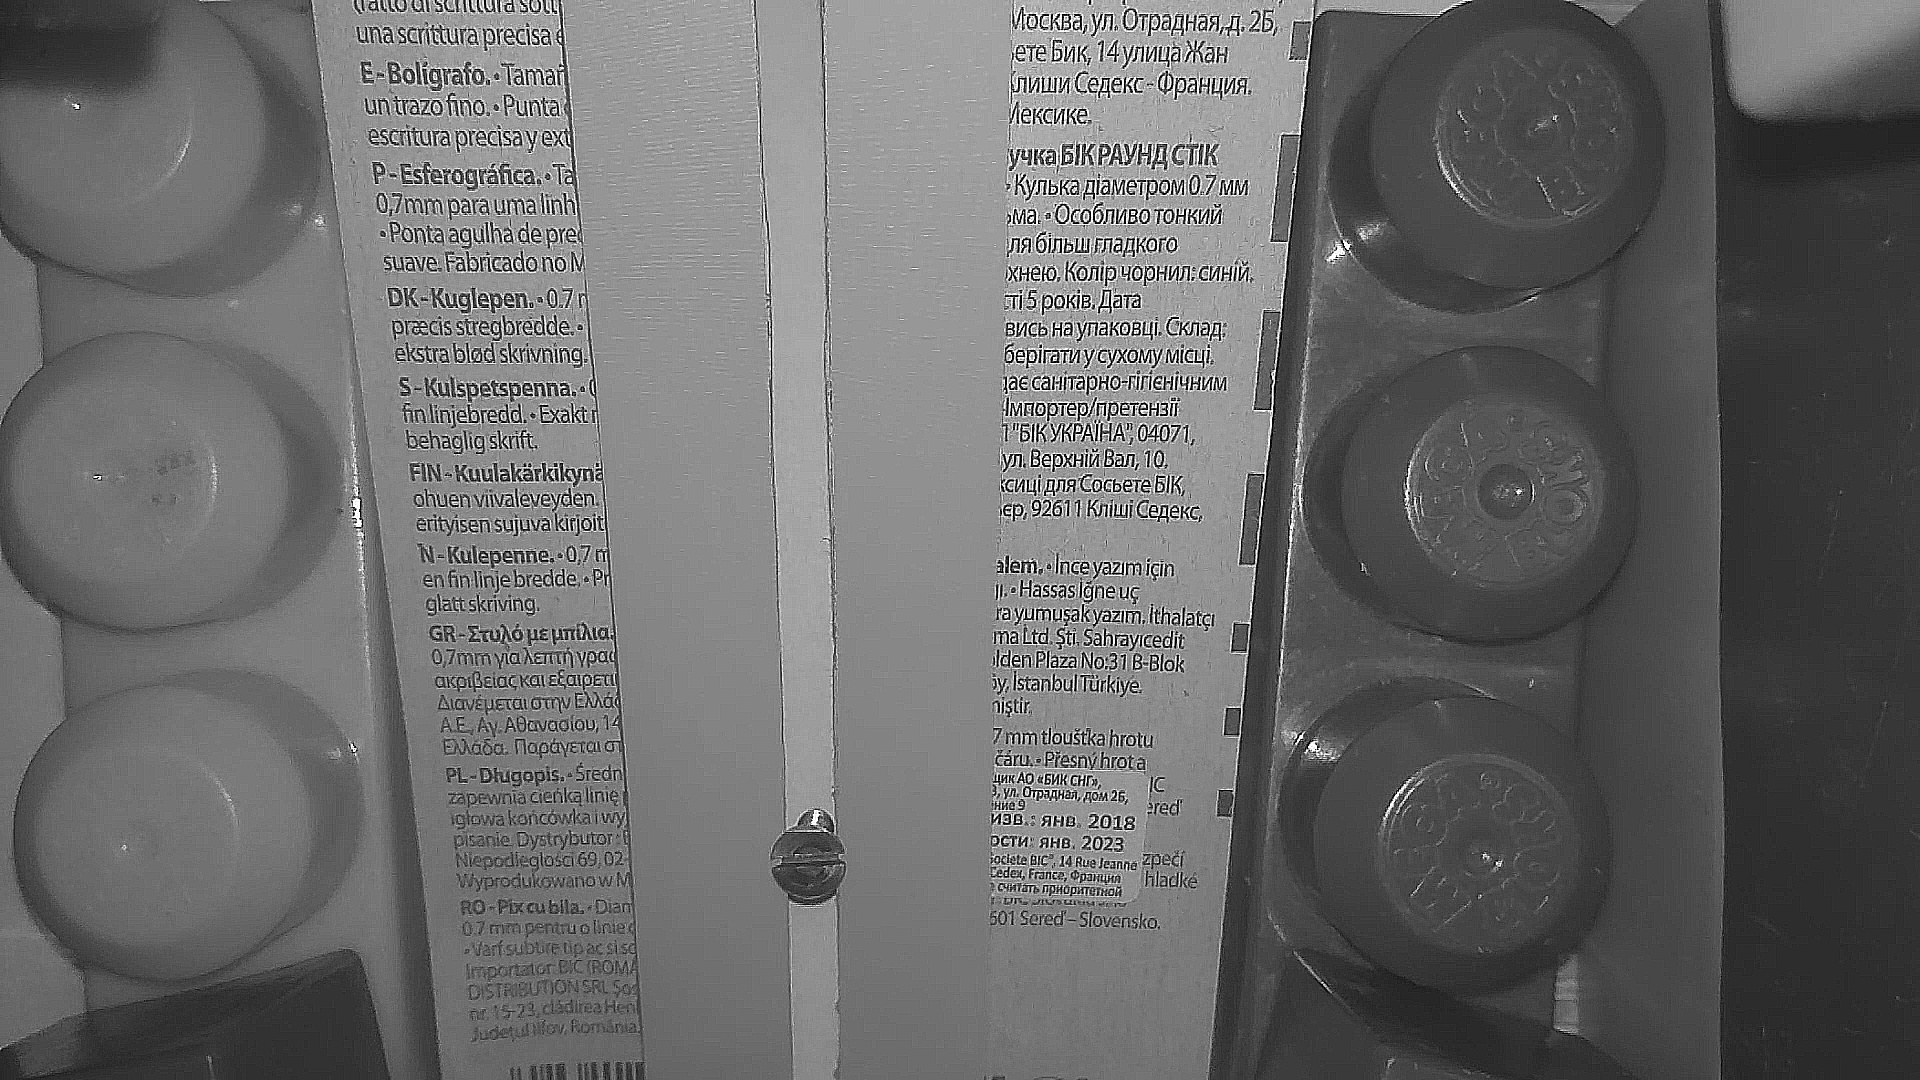i: (771, 825, 847, 902)
